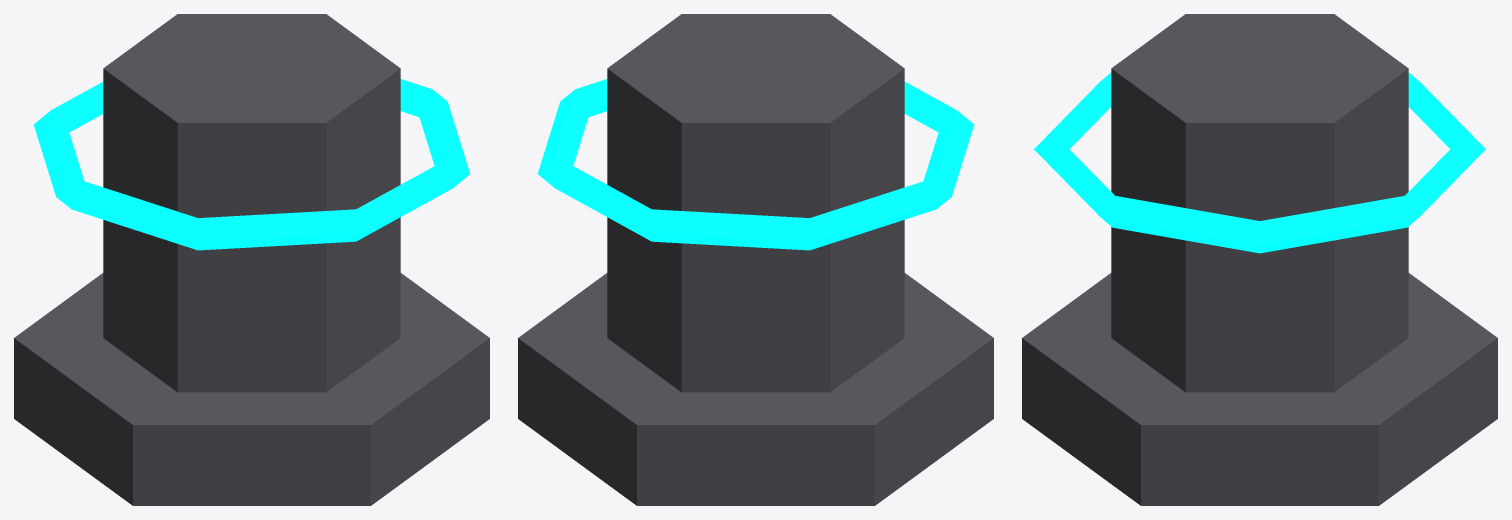
File: tower_pulse_lod1.glb
3 views of the same model, side by side, from view 1: azimuth 30°, elevation 25°; view 2: azimuth 150°, elevation 25°; view 3: azimuth 270°, elevation 25° (orthographic).
Parts seen in each view (by area): view 1: tower_pulse_lod1; view 2: tower_pulse_lod1; view 3: tower_pulse_lod1.
Boxes of the visible parts, x1=… form: tower_pulse_lod1: x1=14, y1=14, x2=489, y2=505; tower_pulse_lod1: x1=518, y1=14, x2=993, y2=505; tower_pulse_lod1: x1=1022, y1=14, x2=1497, y2=505.
Size of the model in its own units: 0.76 by 0.65 by 0.8.
